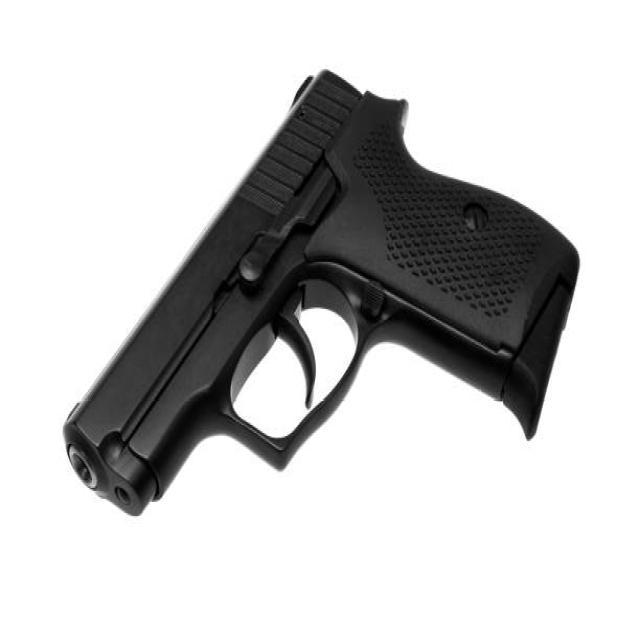pistol: (57, 54, 585, 524)
